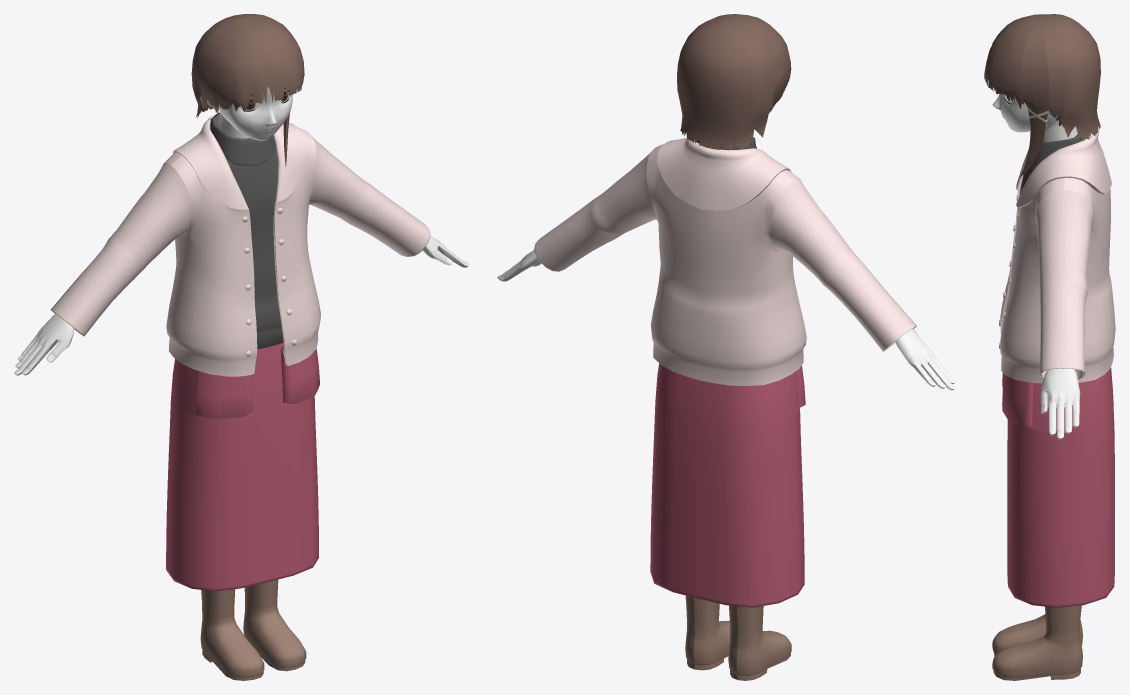
Rendered from lain_4.fbx.
3 views of the same model, side by side, from view 1: azimuth 30°, elevation 25°; view 2: azimuth 150°, elevation 25°; view 3: azimuth 270°, elevation 25° (orthographic).
Parts seen in each view (by area): view 1: Body; view 2: Body; view 3: Body.
Boxes of the visible parts, left/top/right/bottom form: Body: left=14, top=14, right=468, bottom=680; Body: left=497, top=14, right=955, bottom=680; Body: left=984, top=14, right=1115, bottom=680.
Size of the model in its own units: 116 by 155 by 28.69.
